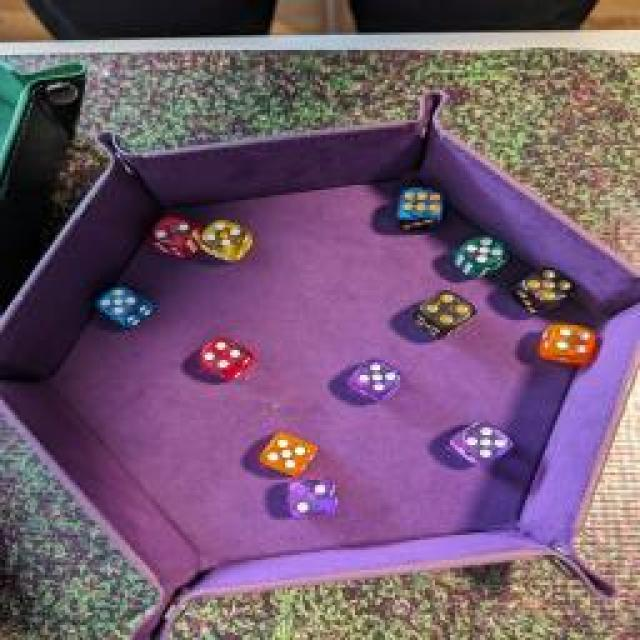dice_2: (283, 472, 345, 520), (148, 212, 200, 258)
dice_4: (194, 332, 254, 382), (200, 212, 255, 262), (532, 322, 600, 362), (415, 288, 473, 334)
dice_5: (511, 265, 579, 313), (448, 417, 512, 465), (254, 430, 318, 478), (344, 352, 404, 402), (91, 285, 151, 327), (449, 235, 511, 275)
dice_6: (389, 184, 451, 226)
